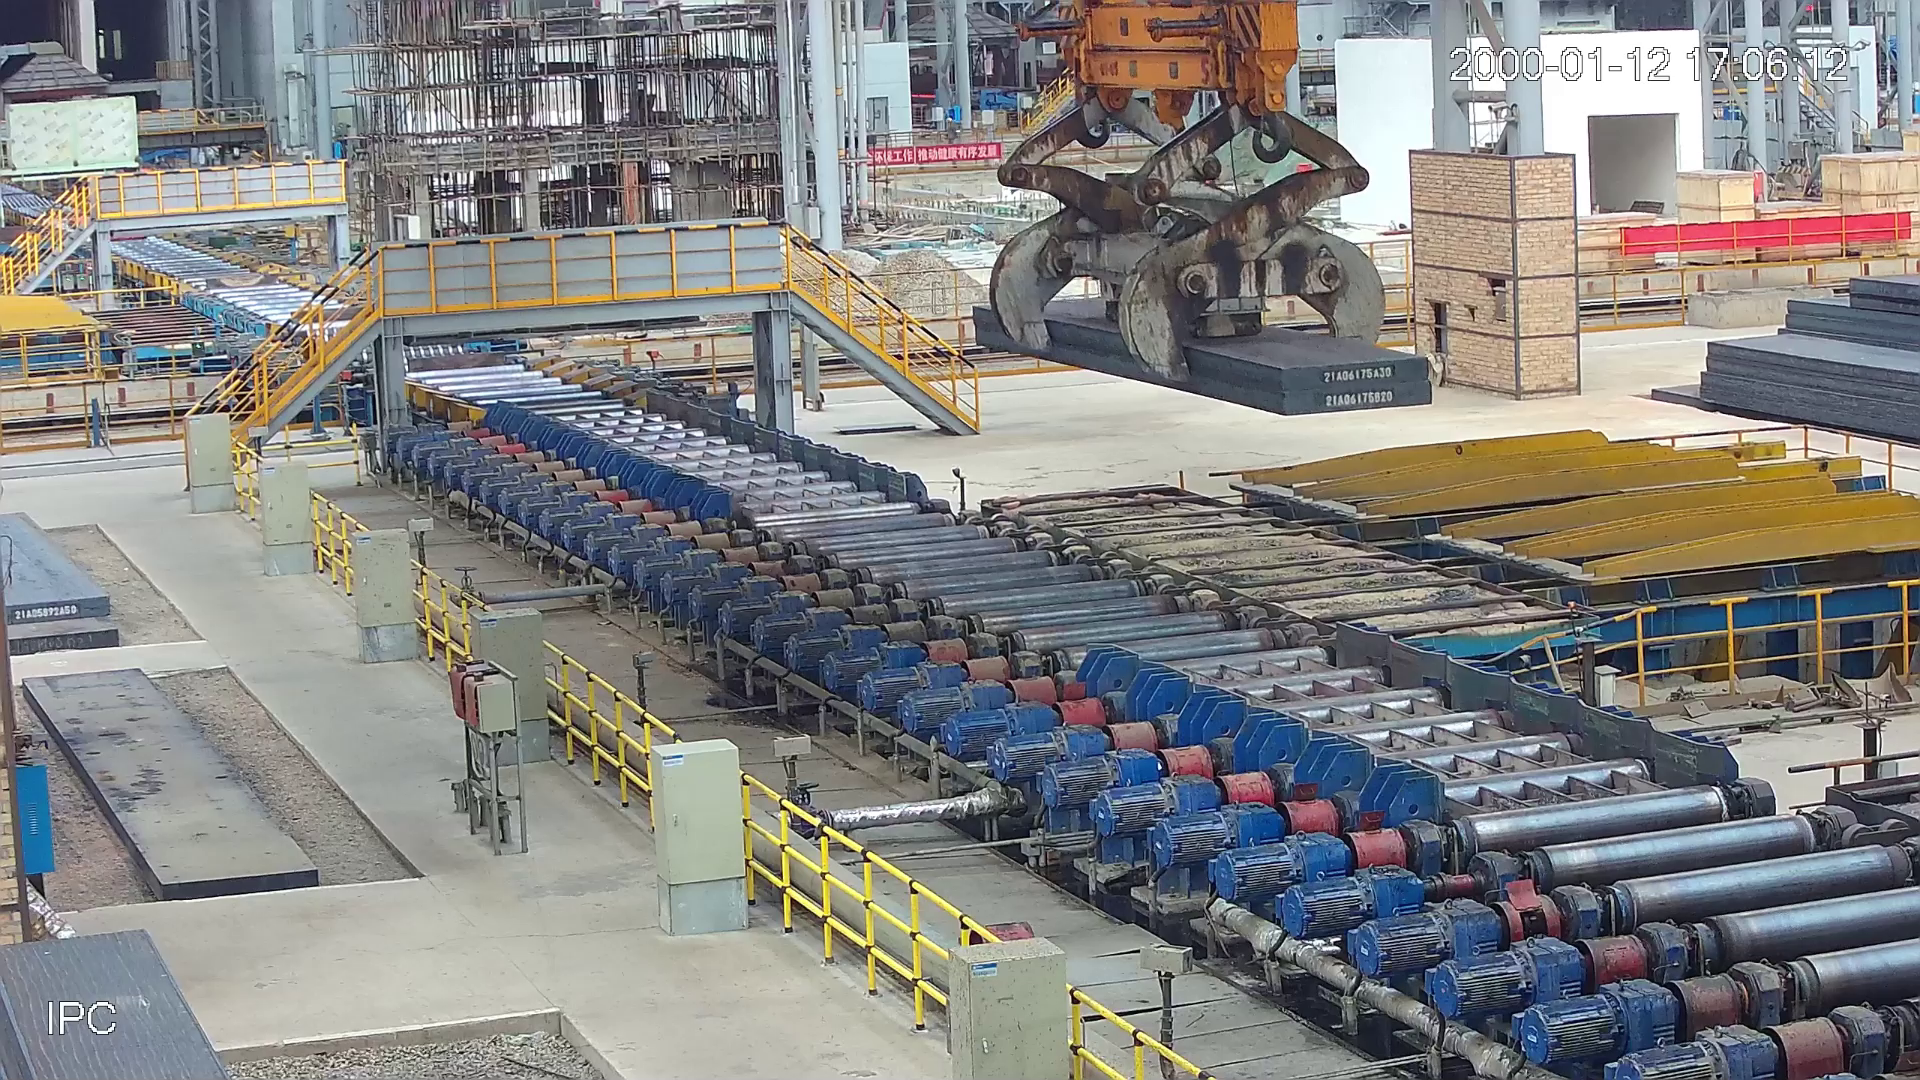craneandslab: (973, 1, 1441, 409)
